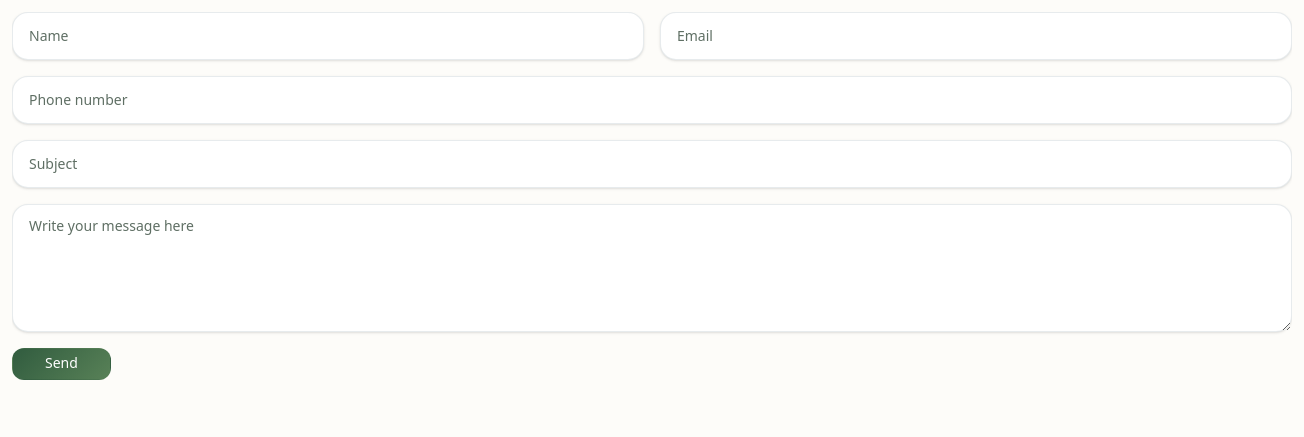
it: ContactForm › submits and shows success state
This screenshot has width=1304, height=437.
Type "Test User" into the field with placeholder "Name".
click(328, 36); type("Test User")  # box [12, 12, 644, 60]
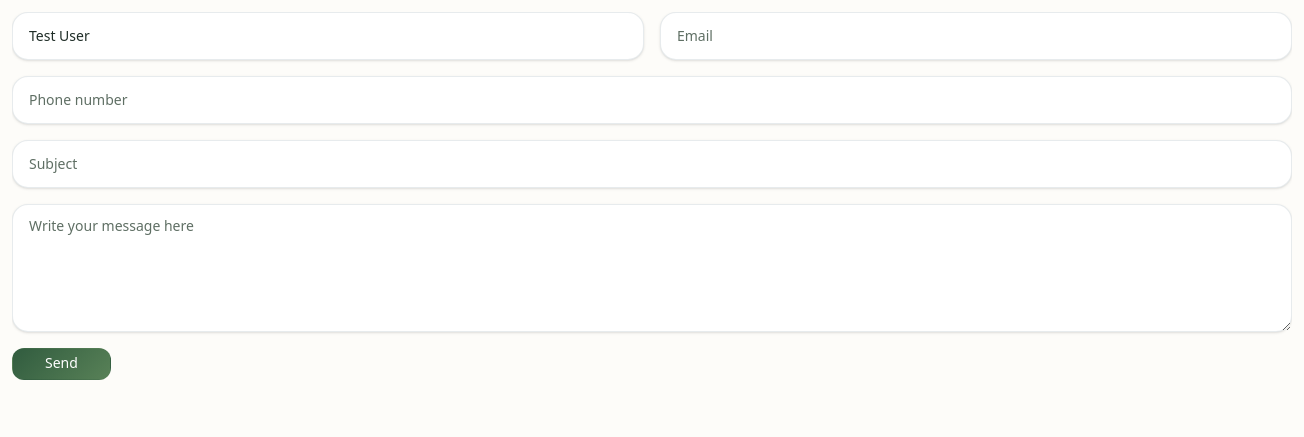
Type "test@example.com" into the field with placeholder "Email".
click(976, 36); type("test@example.com")  # box [660, 12, 1292, 60]
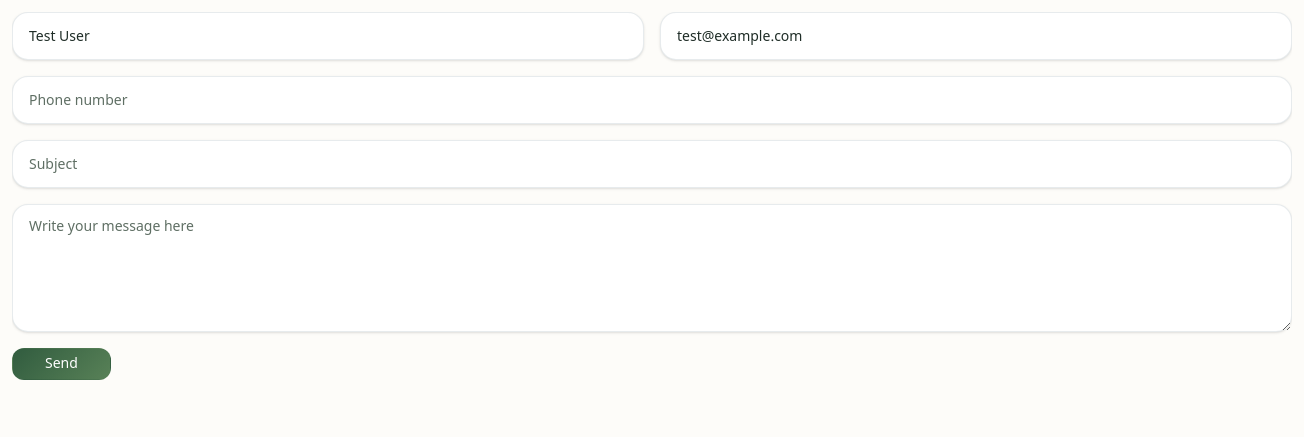
Type "Help" into the field with placeholder "Subject".
click(652, 164); type("Help")  # box [12, 140, 1292, 188]
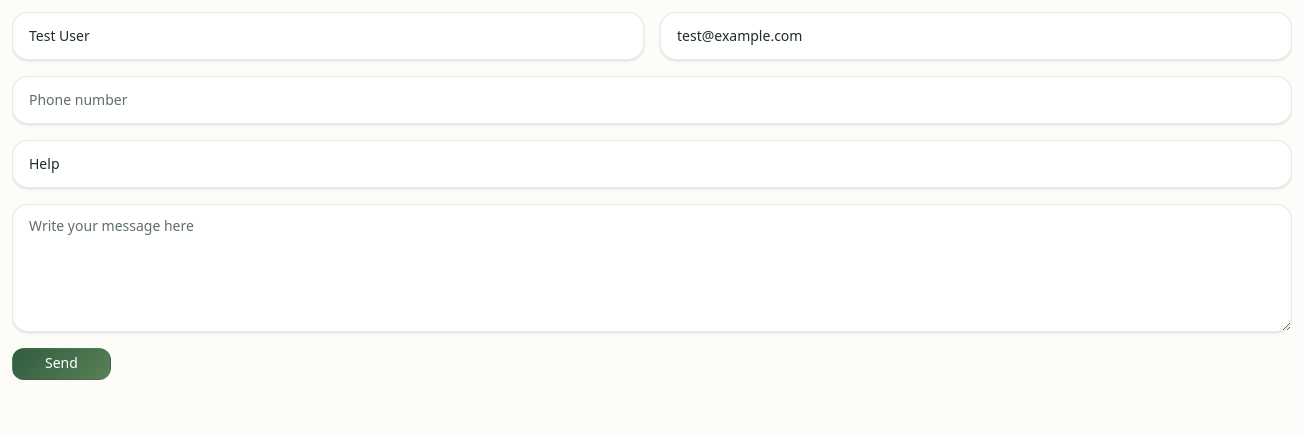
Type "I need help finding a meeting." into the text box with placeholder "Write your message here".
click(652, 268); type("I need help finding a meeting.")  # box [12, 204, 1292, 332]
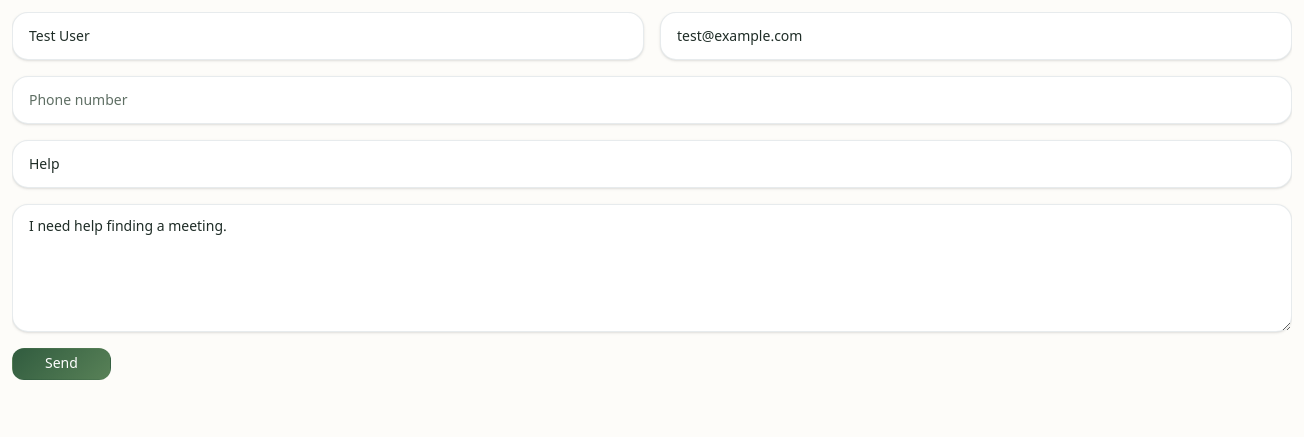
Submit the form "Send"
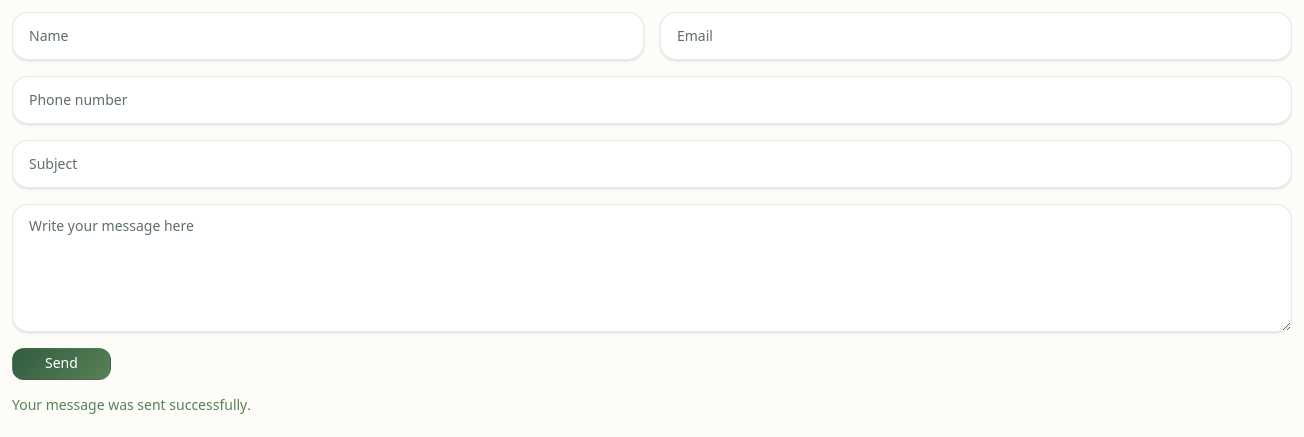
Check: the text "Your message was sent successfully." is shown, box [12, 391, 251, 420]
